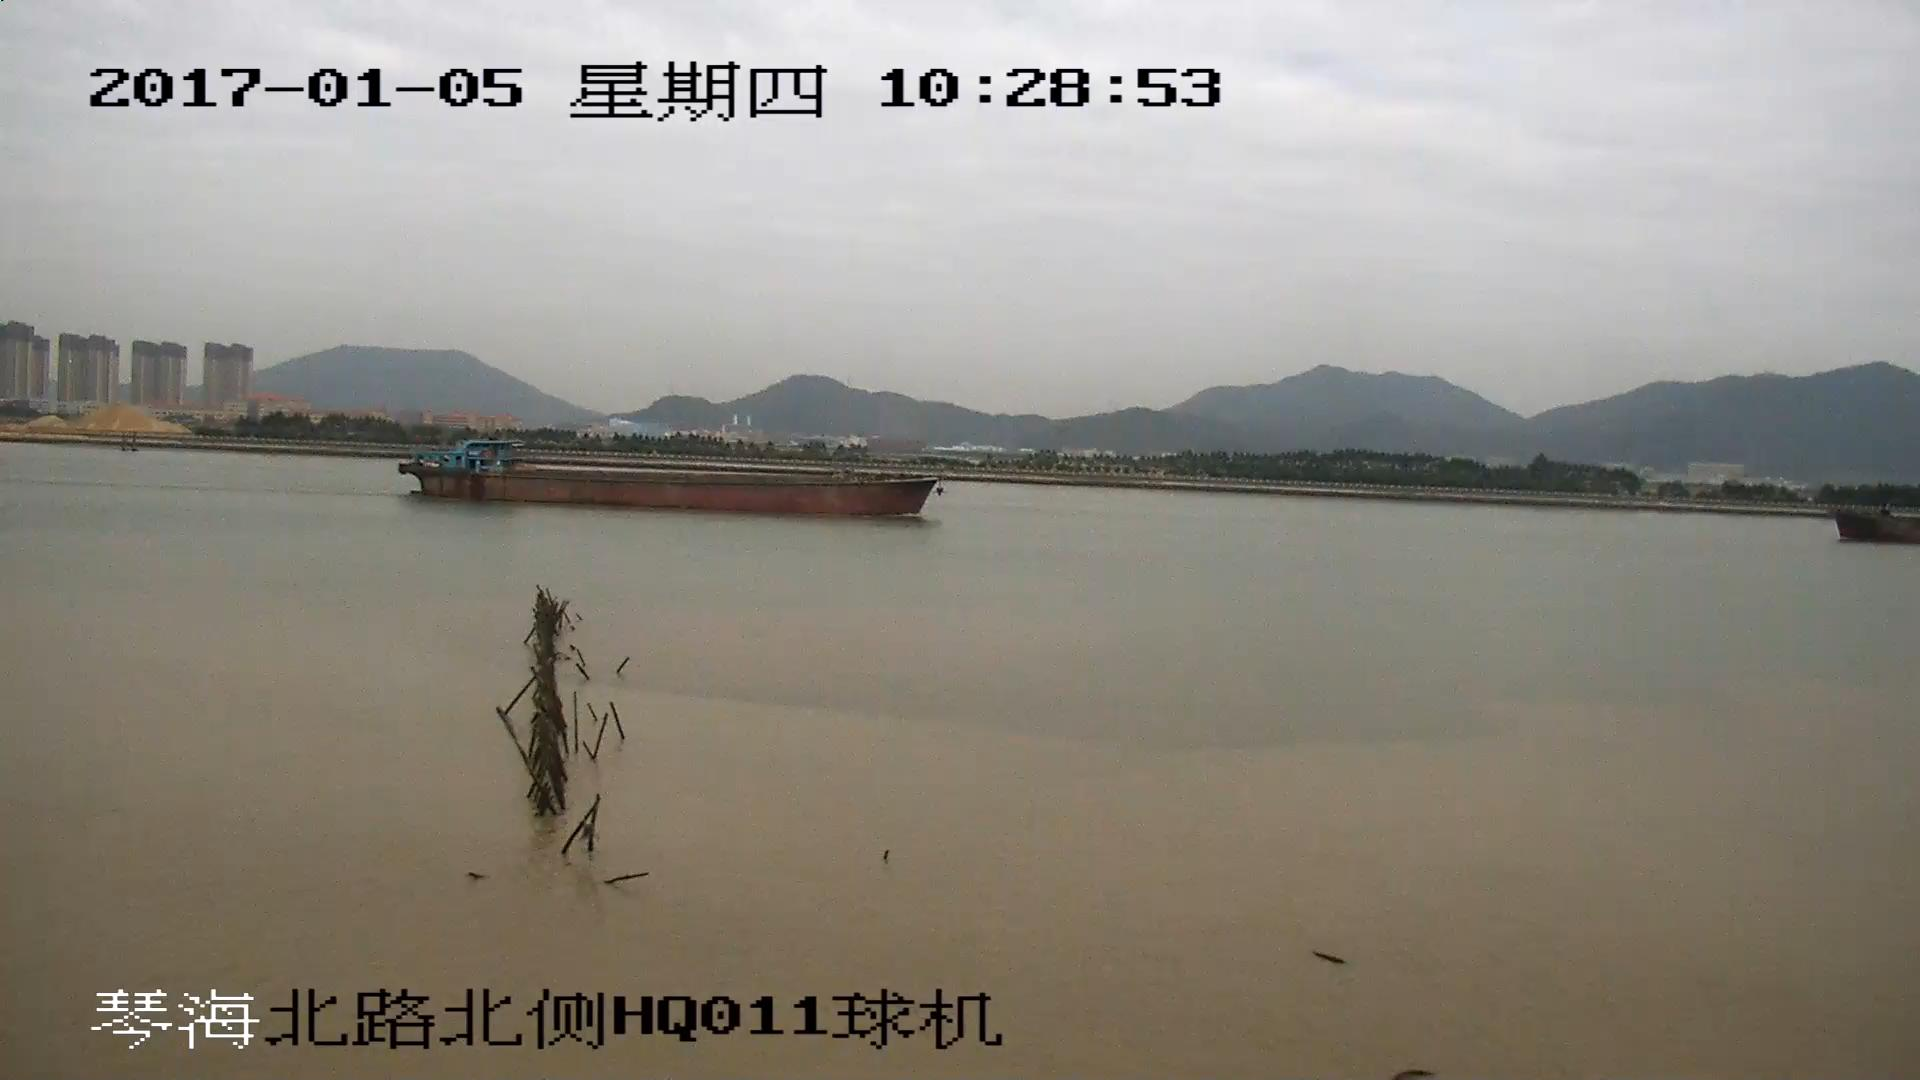bulk cargo carrier: (398, 436, 944, 520)
